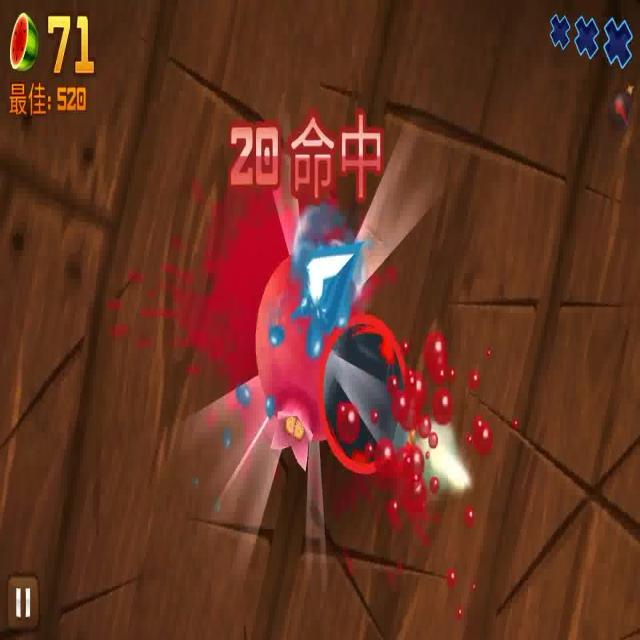bomb: (320, 325, 431, 486)
fruit: (254, 253, 358, 472)
